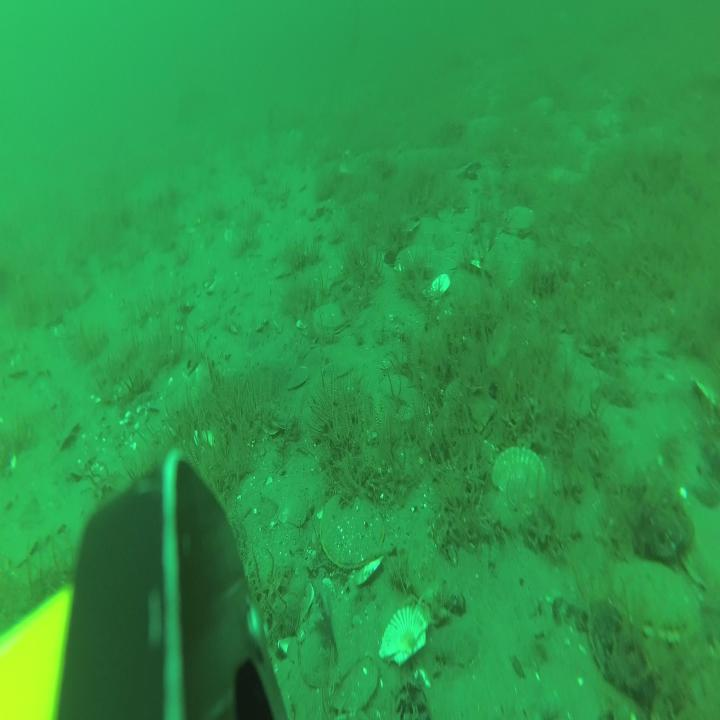scallop: (611, 547, 701, 648), (318, 490, 386, 574), (489, 440, 551, 513), (376, 600, 429, 668), (443, 376, 500, 436), (310, 301, 350, 339), (500, 202, 538, 241), (390, 208, 424, 239)
